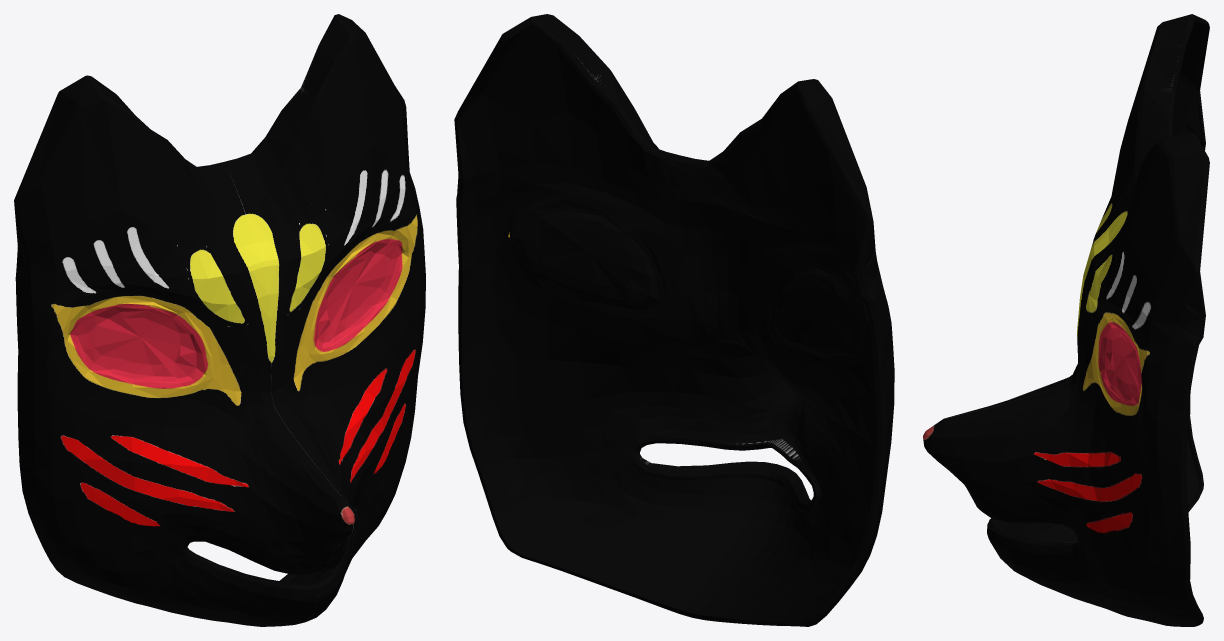
Rendered from enemyFoxMask.obj.
3 views of the same model, side by side, from view 1: azimuth 30°, elevation 25°; view 2: azimuth 150°, elevation 25°; view 3: azimuth 270°, elevation 25° (orthographic). The views are drawn at different scales.
Visible parts, largest first — view 1: FoxMask; view 2: FoxMask; view 3: FoxMask.
Part boxes in pixels (bbox=[...]): FoxMask: bbox=[14, 14, 425, 626]; FoxMask: bbox=[454, 14, 894, 626]; FoxMask: bbox=[923, 14, 1209, 626].
Bounding box in the file's own units: 0.4566 × 0.5977 × 0.2925.
1 material, 1 textured.
